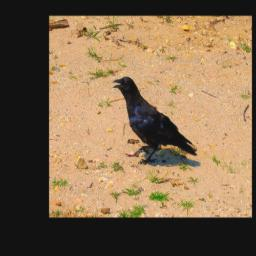Crow: (112, 76, 197, 165)
